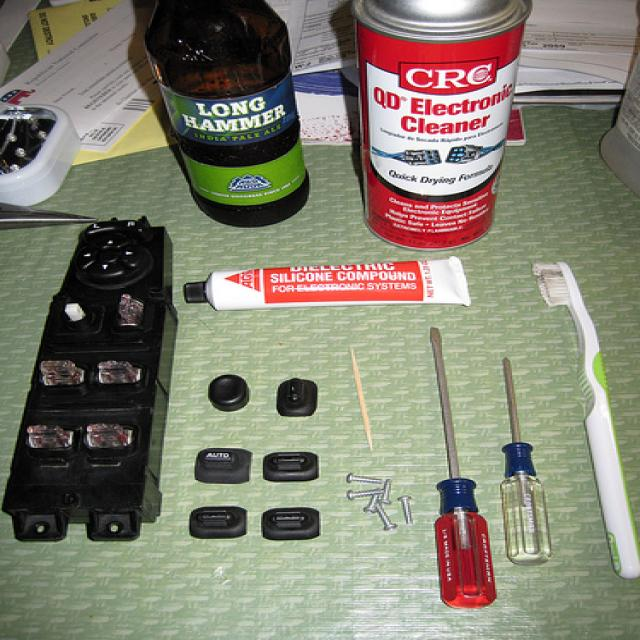screw_driver: (430, 328, 497, 608), (502, 359, 552, 565)
